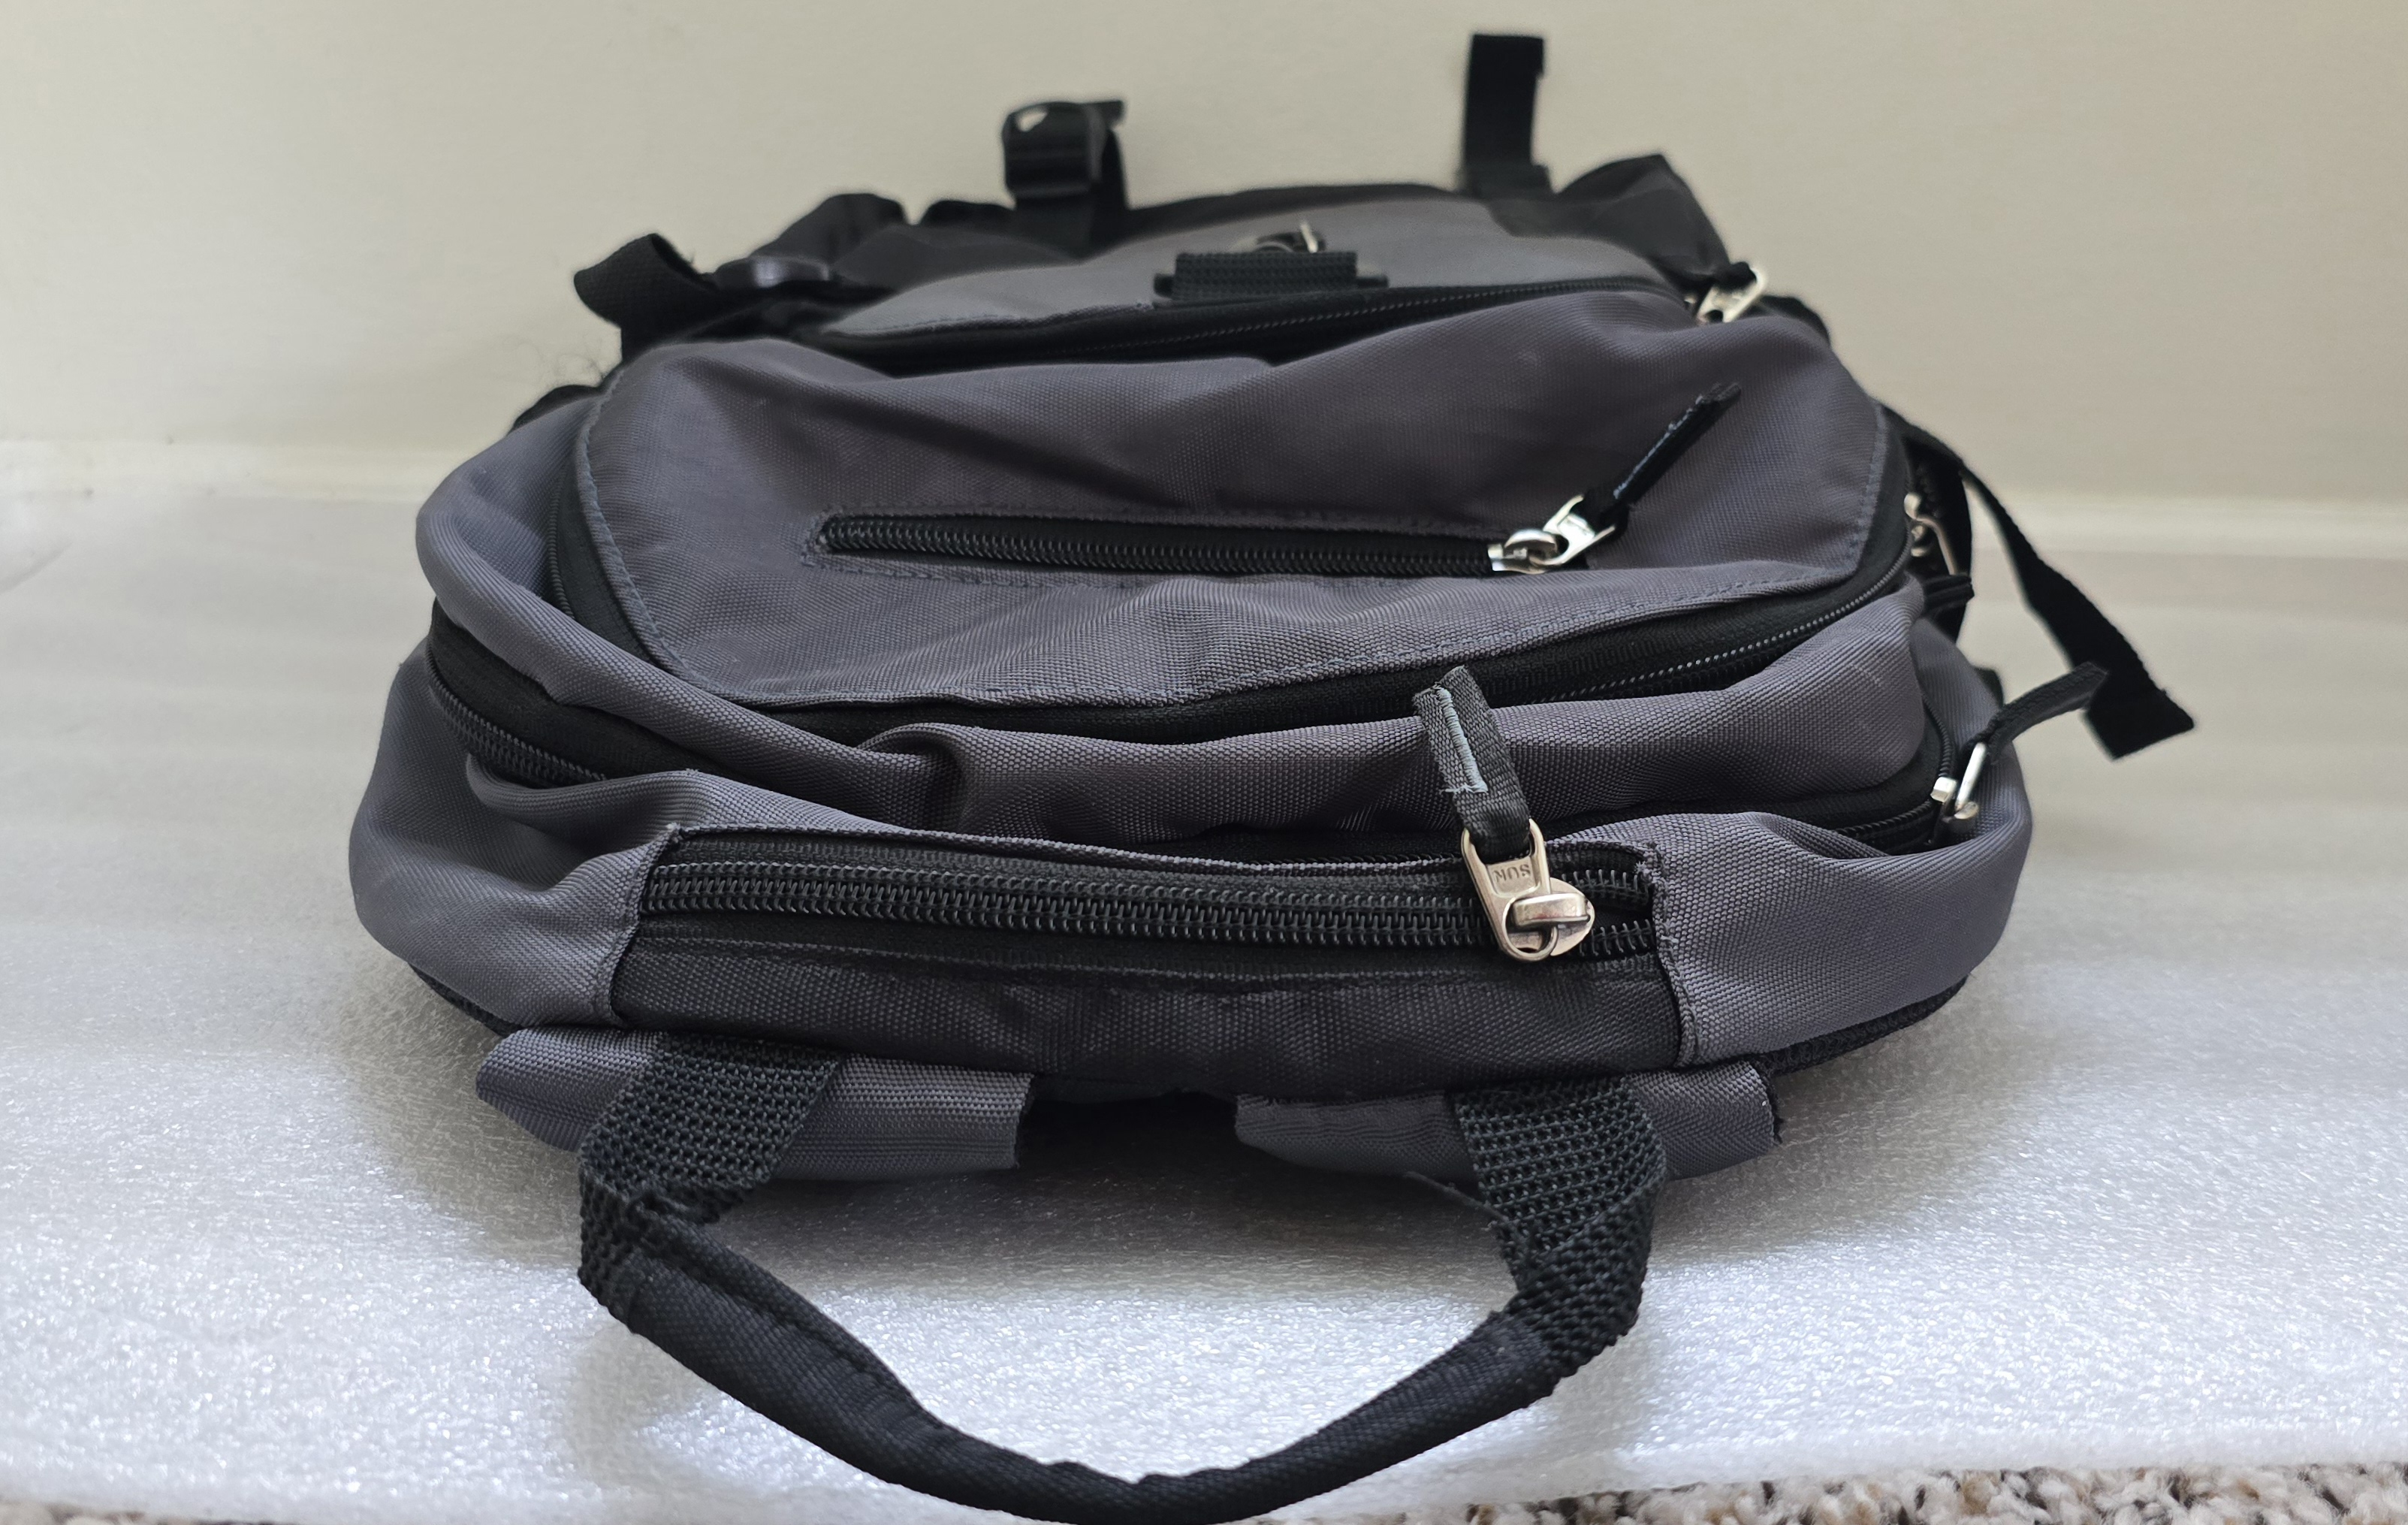bag: (372, 84, 2145, 1269)
